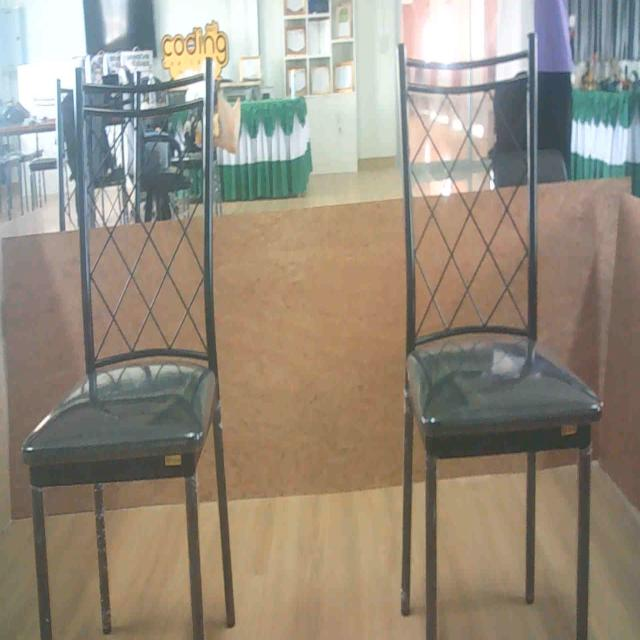empty: (392, 38, 602, 446), (31, 74, 223, 489)
